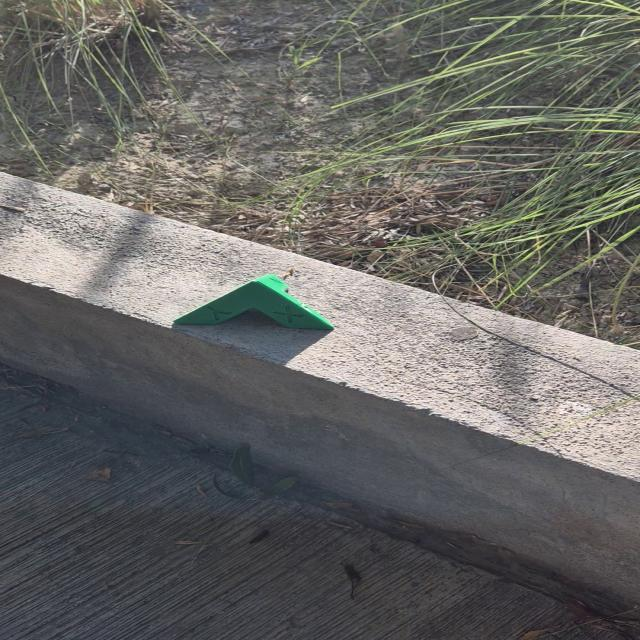objects: (171, 272, 337, 331)
